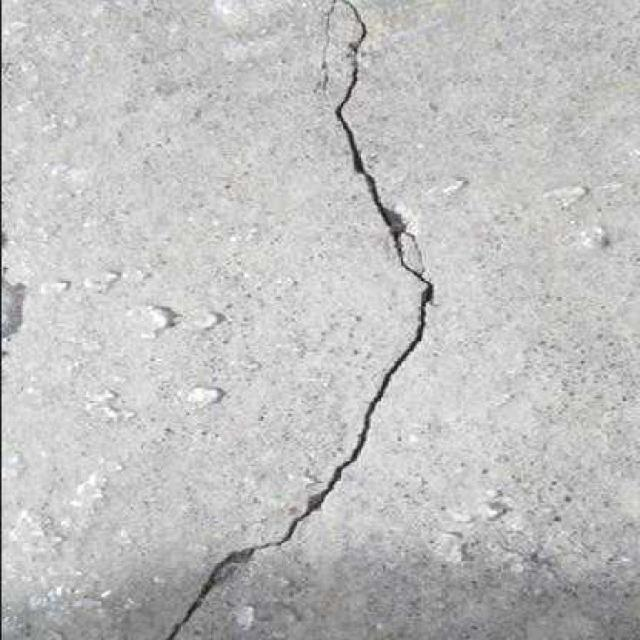D00: (159, 0, 437, 640)
